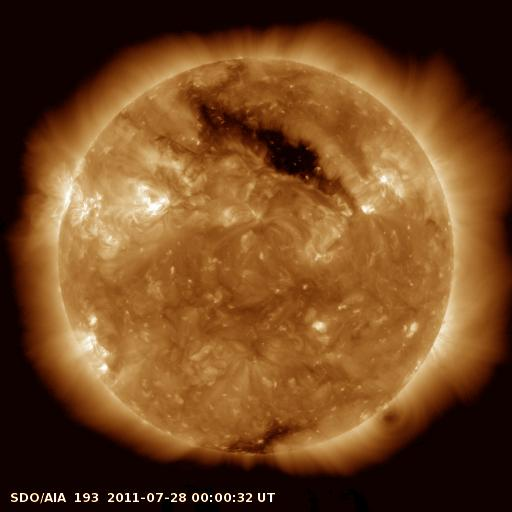coronal_hole: (193, 95, 343, 195), (215, 422, 311, 456)
